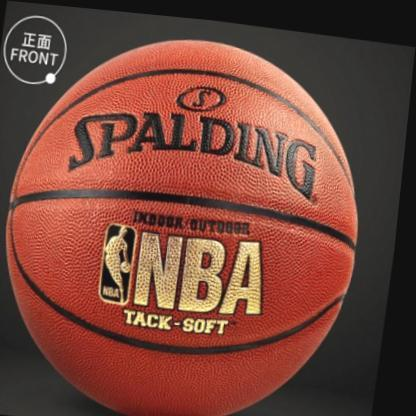basketball: (0, 16, 385, 416)
